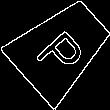P_NE: (31, 17, 92, 79)
